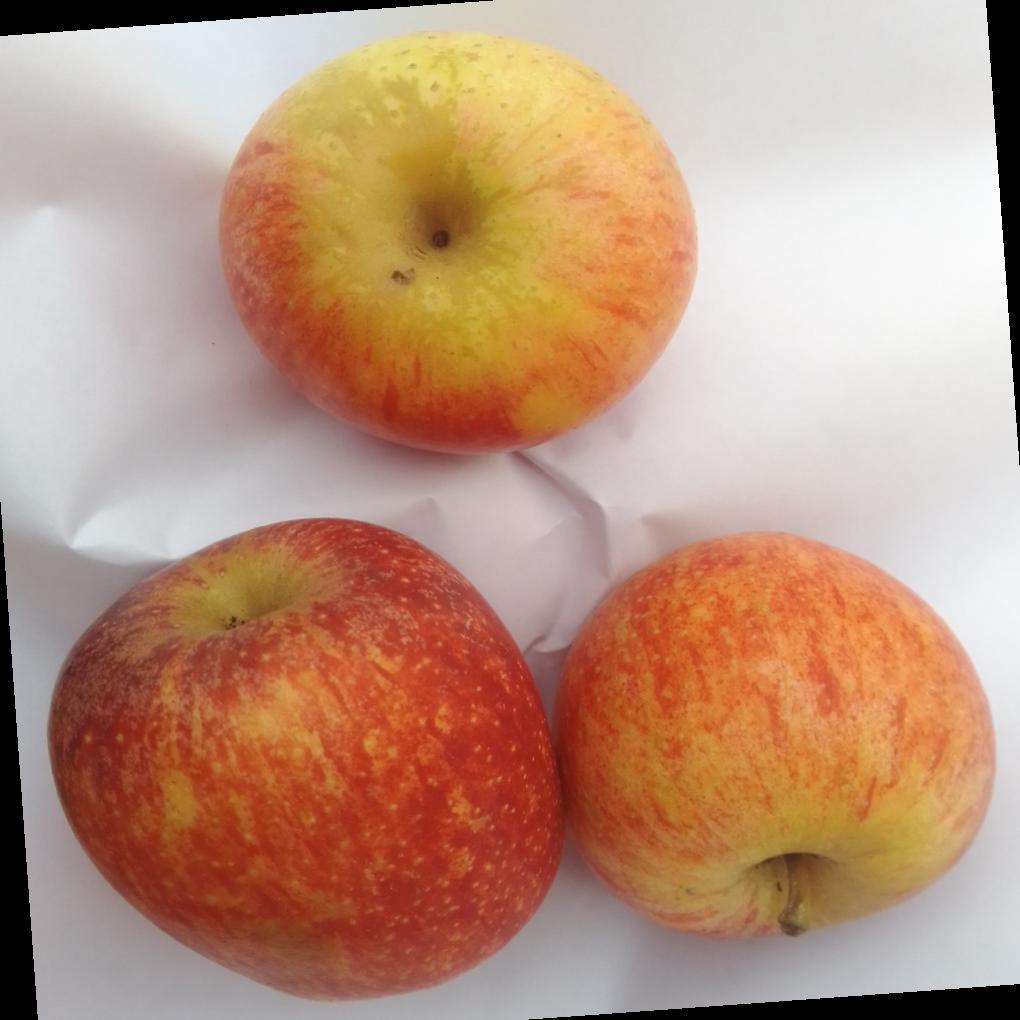FreshGuava: (44, 518, 997, 1005), (216, 33, 699, 460)
